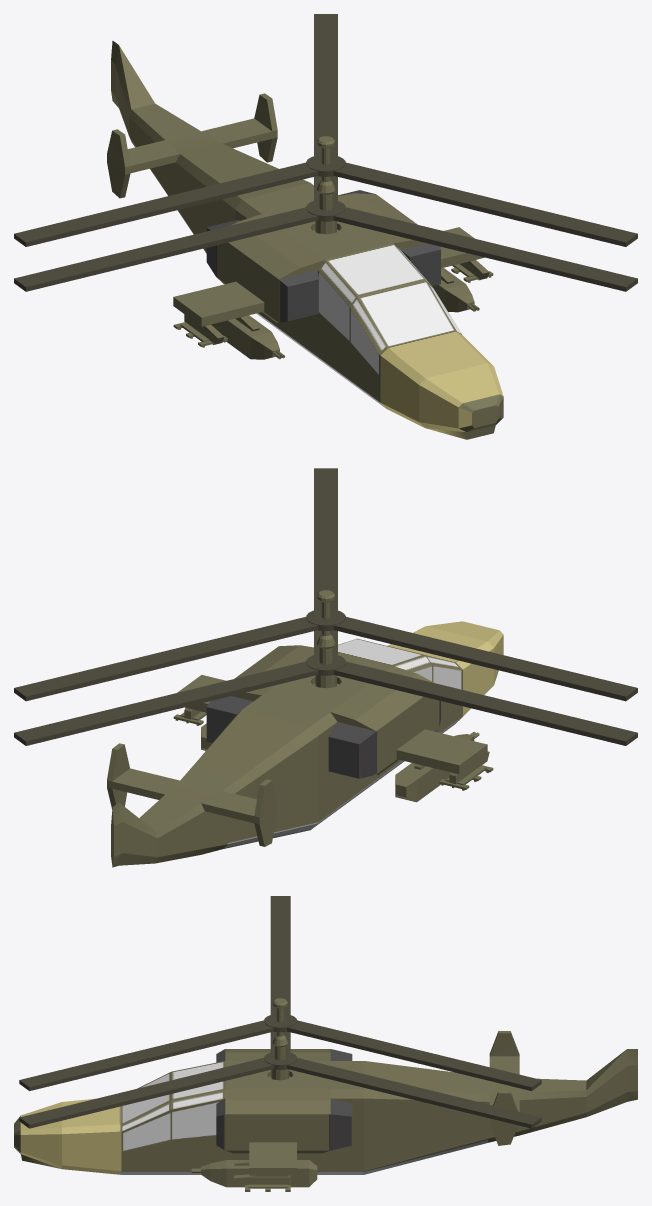
The model's file is Chopper_02.fbx.
3 renders of one model, top to bottom at view 1: azimuth 30°, elevation 25°; view 2: azimuth 150°, elevation 25°; view 3: azimuth 270°, elevation 25°, orthographic. The views are drawn at different scales.
Visible parts, largest first — view 1: Chopper_02_Body, Chopper_02_Propel_Chopper_02_Propel1, Chopper_02_Propel_Chopper_02_Propel, Chopper_02_GunPod, Chopper_02_GunPod2; view 2: Chopper_02_Body, Chopper_02_Propel_Chopper_02_Propel1, Chopper_02_Propel_Chopper_02_Propel, Chopper_02_GunPod; view 3: Chopper_02_Body, Chopper_02_Propel_Chopper_02_Propel1, Chopper_02_Propel_Chopper_02_Propel, Chopper_02_GunPod2.
Part boxes in pixels (<box>): Chopper_02_Body: <box>107,41,503,439</box>; Chopper_02_Propel_Chopper_02_Propel1: <box>14,14,637,246</box>; Chopper_02_Propel_Chopper_02_Propel: <box>14,176,637,291</box>; Chopper_02_GunPod: <box>211,315,284,359</box>; Chopper_02_GunPod2: <box>432,268,479,312</box>; Chopper_02_Body: <box>107,590,503,867</box>; Chopper_02_Propel_Chopper_02_Propel1: <box>14,468,637,701</box>; Chopper_02_Propel_Chopper_02_Propel: <box>14,630,637,745</box>; Chopper_02_GunPod: <box>395,731,479,802</box>; Chopper_02_Body: <box>14,998,637,1184</box>; Chopper_02_Propel_Chopper_02_Propel1: <box>19,896,541,1090</box>; Chopper_02_Propel_Chopper_02_Propel: <box>19,1031,541,1128</box>; Chopper_02_GunPod2: <box>191,1160,317,1187</box>.
Size of the model in its own units: 69.56 by 27.29 by 95.95.
